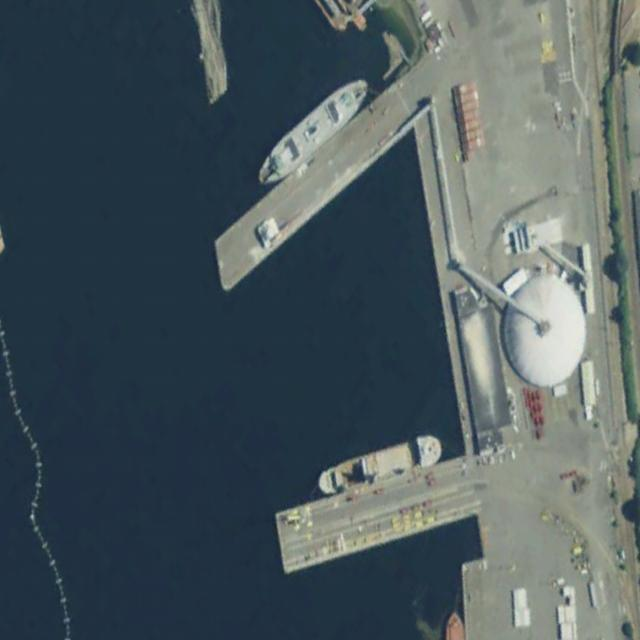Cargo: (316, 430, 442, 497)
RoRo: (254, 68, 374, 193)
